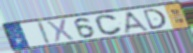6: (73, 17, 97, 39)
A: (123, 10, 152, 35)
C: (94, 14, 124, 36)
D: (142, 8, 169, 31)
I: (36, 20, 52, 45)
X: (45, 18, 76, 44)
